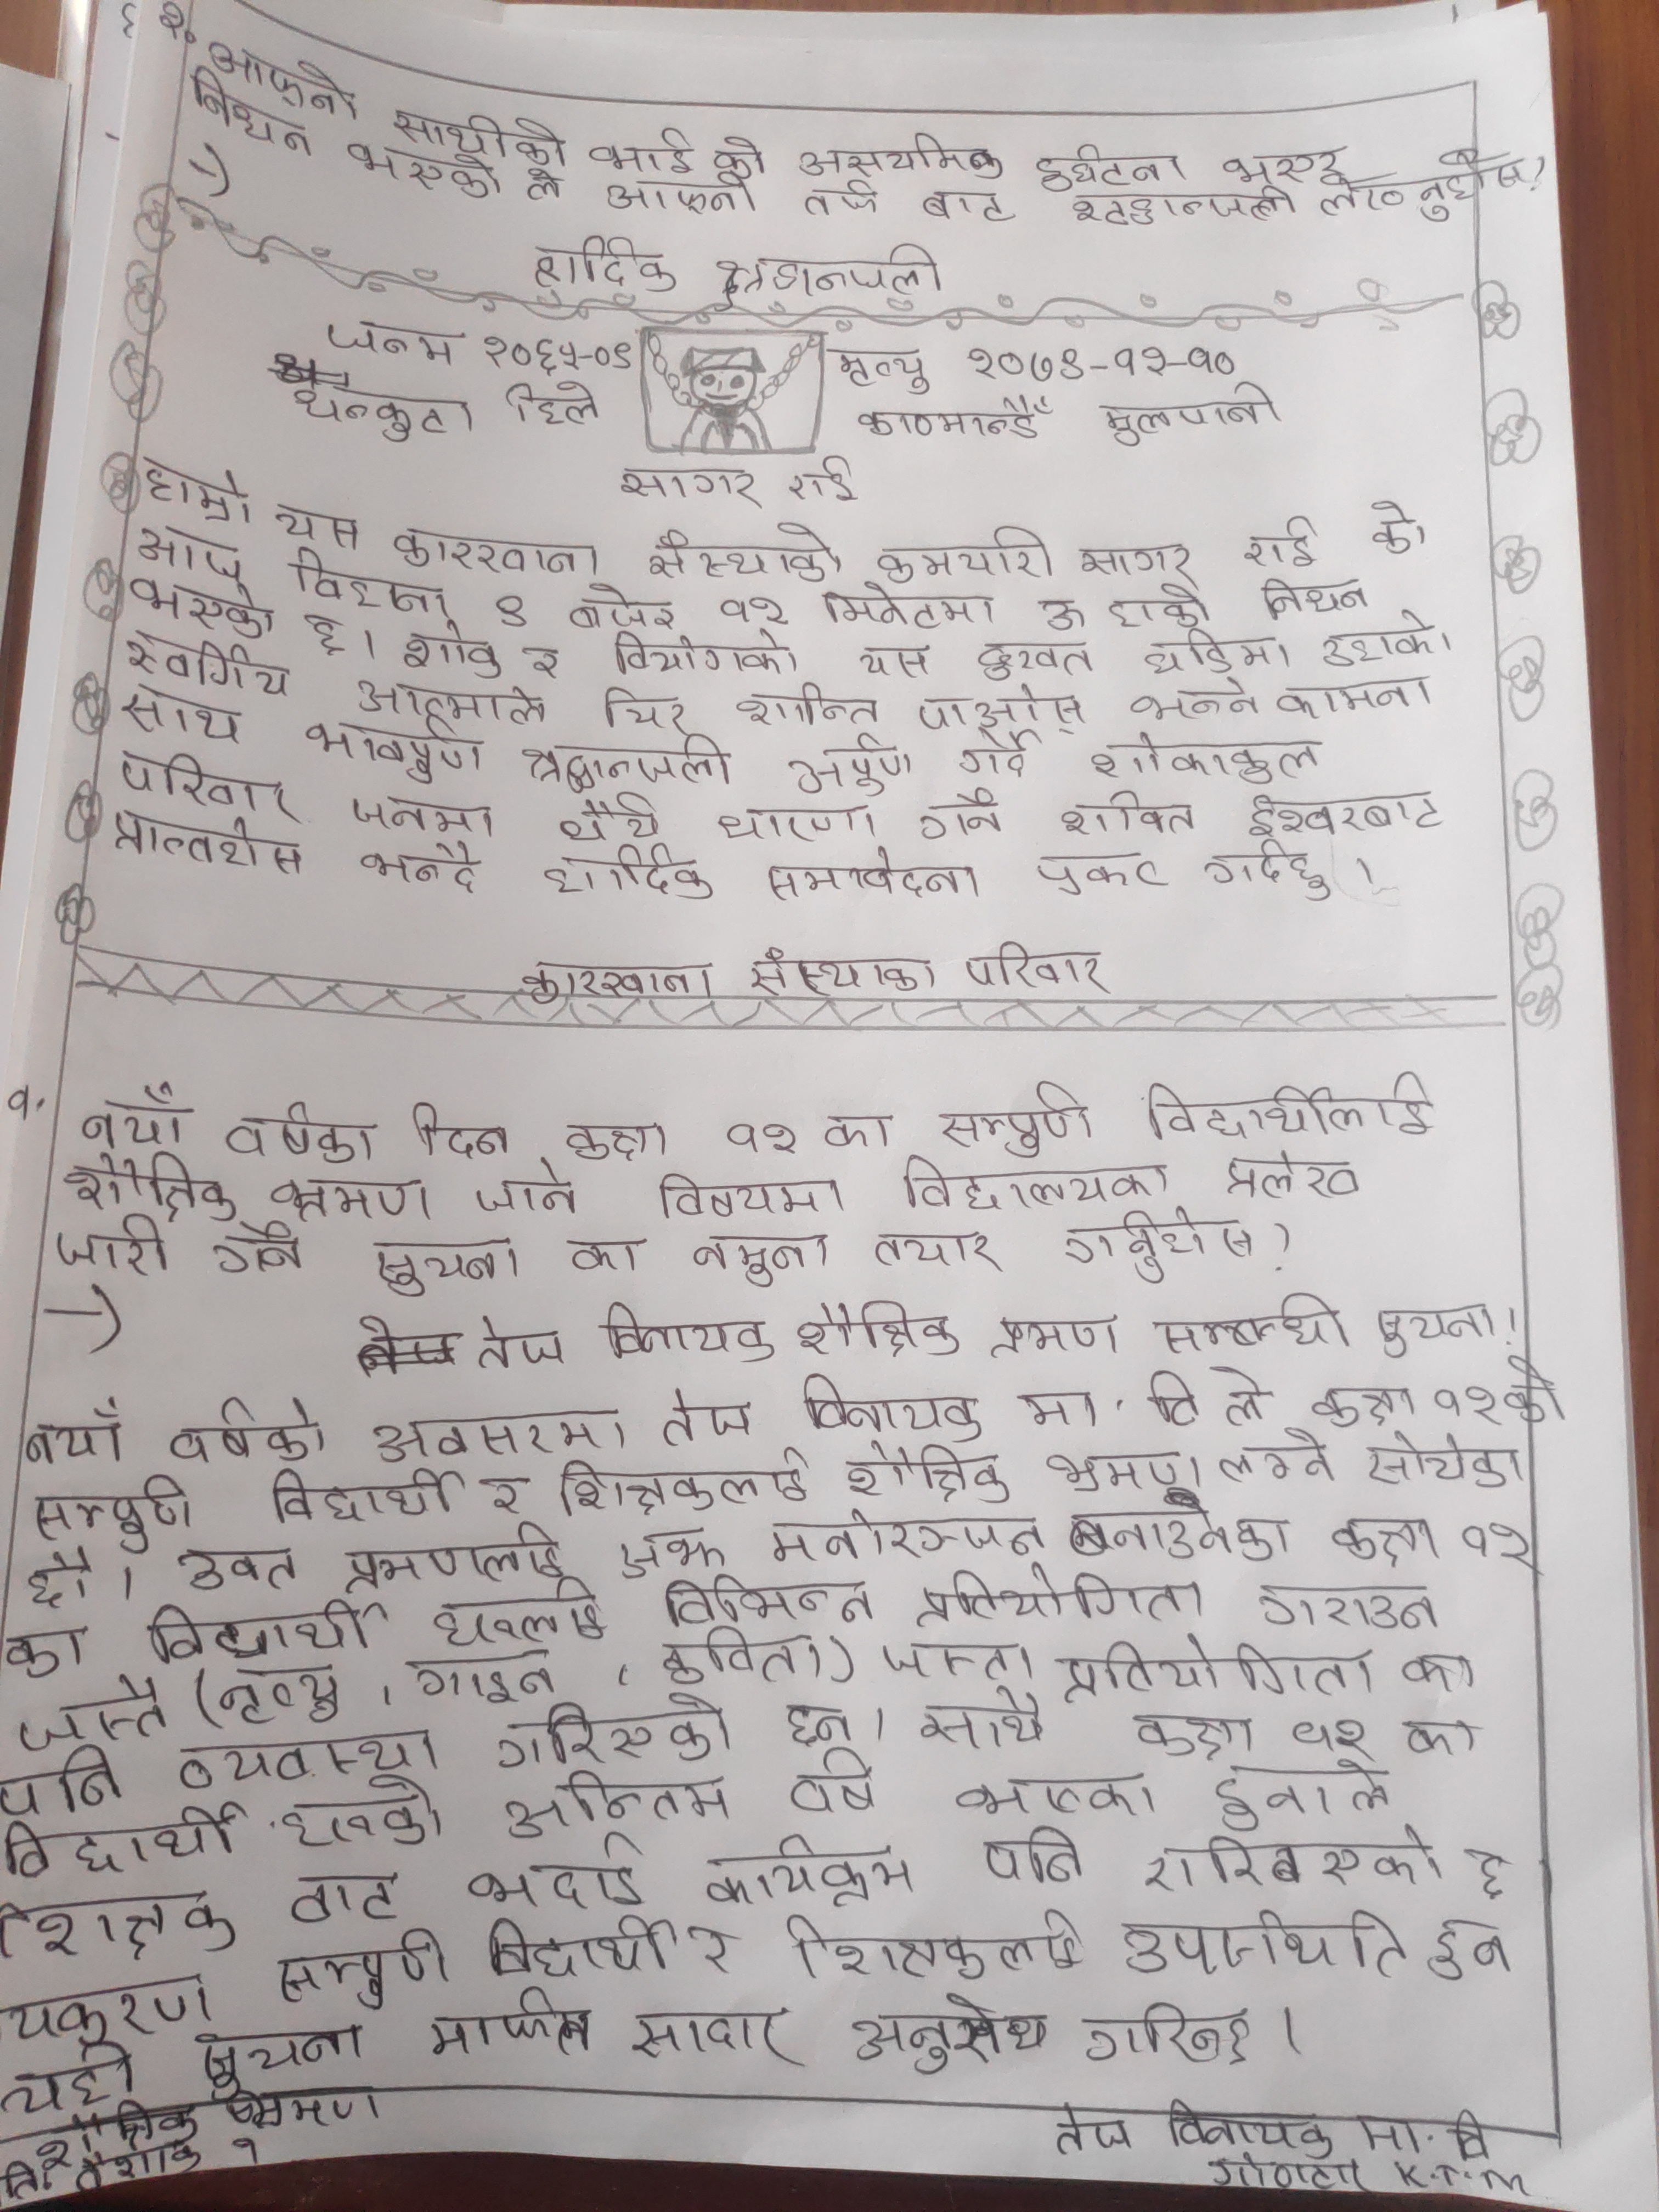text: (779, 1907, 1091, 1989), (1121, 1897, 1412, 1979), (1140, 1068, 1446, 1137), (1138, 1827, 1448, 1895), (1056, 1634, 1382, 1698), (918, 1559, 1211, 1627), (486, 1689, 735, 1766), (2, 1883, 237, 1959), (146, 1588, 394, 1660), (755, 1505, 1056, 1562), (174, 1724, 437, 1789), (852, 1991, 1054, 2074), (551, 1453, 816, 1515), (331, 1521, 572, 1588), (694, 1836, 917, 1909), (1056, 1204, 1263, 1282), (268, 1928, 455, 2015), (0, 1818, 251, 1883), (786, 1366, 988, 1444), (99, 806, 321, 878), (711, 235, 951, 300), (477, 1909, 671, 1989), (885, 1158, 1178, 1211), (1086, 723, 1328, 784), (115, 745, 307, 822), (615, 1993, 798, 2073), (1072, 1998, 1256, 2076), (1213, 1750, 1392, 1831), (925, 1080, 1103, 1160), (1328, 153, 1532, 223), (3, 1972, 218, 2038), (1148, 1291, 1356, 1359), (465, 1836, 657, 1909), (498, 1775, 734, 1834), (274, 1778, 455, 1855), (1066, 1507, 1297, 1566), (390, 519, 601, 583), (301, 711, 491, 782), (425, 1986, 601, 2062), (519, 735, 739, 796), (1223, 782, 1448, 841), (951, 1766, 1169, 1827), (291, 374, 476, 446), (347, 665, 551, 730), (361, 1407, 629, 1456), (61, 1151, 244, 1223), (260, 1458, 457, 1524), (655, 1569, 875, 1629), (598, 1296, 781, 1366), (164, 1397, 338, 1470), (361, 1224, 519, 1305), (1251, 1575, 1448, 1639), (640, 523, 847, 583), (840, 1437, 1021, 1507), (1098, 378, 1283, 446), (28, 1479, 197, 1552), (197, 40, 357, 117), (765, 848, 978, 906), (1361, 1430, 1532, 1501), (958, 340, 1236, 383), (295, 543, 448, 622), (430, 1581, 615, 1646), (270, 1165, 444, 1233), (655, 1165, 854, 1224), (742, 944, 951, 1000), (786, 1299, 971, 1362), (12, 1674, 176, 1743), (390, 98, 561, 164), (532, 846, 716, 907), (688, 1214, 833, 1291), (1215, 1139, 1368, 1211), (652, 1627, 824, 1689), (199, 2031, 366, 2095), (1161, 2099, 1337, 2160), (870, 524, 1061, 580), (796, 134, 1014, 183), (0, 2041, 148, 2113), (1054, 186, 1297, 230), (910, 1689, 1061, 1757), (1263, 665, 1436, 725), (136, 629, 291, 693), (505, 961, 725, 1007), (0, 1740, 134, 1813), (882, 1625, 1033, 1689), (525, 235, 674, 300), (612, 629, 809, 678), (817, 585, 1000, 637), (220, 1104, 380, 1163), (852, 401, 1061, 446), (471, 322, 640, 378), (361, 834, 498, 902), (1199, 834, 1337, 902), (716, 791, 884, 846), (1049, 784, 1204, 843), (586, 125, 760, 178), (21, 1397, 145, 1470), (1040, 1440, 1208, 1494), (406, 1646, 563, 1703), (1208, 2146, 1373, 2200), (193, 85, 312, 160), (983, 1305, 1121, 1369), (138, 446, 251, 523), (141, 577, 272, 643), (342, 155, 497, 211), (918, 678, 1080, 730), (1354, 2101, 1492, 2161), (404, 1094, 516, 1169), (782, 733, 915, 796), (343, 787, 502, 840), (390, 613, 518, 678), (1131, 1707, 1258, 1771), (1138, 1372, 1279, 1430), (78, 1085, 202, 1150), (981, 1824, 1093, 1895), (1032, 139, 1188, 190), (1032, 846, 1169, 904), (1138, 627, 1298, 676), (58, 1217, 173, 1285), (1323, 1505, 1446, 1568), (174, 1536, 301, 1597), (277, 1867, 404, 1928), (730, 681, 884, 732), (859, 1231, 1016, 1280), (779, 1756, 897, 1820), (1215, 1432, 1335, 1494), (592, 171, 765, 214), (328, 312, 462, 368), (1251, 571, 1385, 627), (613, 455, 756, 507), (122, 688, 247, 747), (218, 1669, 347, 1726), (1371, 1299, 1495, 1359), (1321, 617, 1460, 669), (957, 939, 1115, 984), (1121, 678, 1270, 725), (1073, 531, 1202, 583), (655, 1385, 760, 1449), (606, 1526, 730, 1580), (467, 1312, 575, 1372), (469, 1169, 586, 1224), (906, 787, 1016, 846), (565, 580, 685, 634), (202, 1224, 308, 1285), (145, 531, 263, 585), (1310, 1378, 1424, 1432), (505, 374, 610, 432), (565, 1113, 678, 1165), (559, 794, 666, 848), (1389, 1639, 1485, 1698), (1427, 1916, 1520, 1977), (592, 681, 695, 735), (1497, 1348, 1570, 1423), (1218, 145, 1347, 186), (1234, 512, 1324, 571), (969, 643, 1101, 683), (26, 1548, 106, 1615), (943, 732, 1049, 780), (1453, 1514, 1535, 1576), (561, 1230, 650, 1287), (1101, 585, 1222, 627), (821, 1108, 917, 1160), (1366, 491, 1441, 556), (1018, 1381, 1103, 1437), (1394, 1712, 1481, 1766), (272, 503, 364, 554), (9, 1622, 92, 1677), (786, 455, 866, 512), (1293, 1707, 1380, 1757), (1054, 2101, 1138, 2153), (674, 1925, 749, 1982), (723, 1108, 805, 1160), (835, 348, 932, 392), (918, 188, 1011, 232), (1431, 1372, 1497, 1430), (779, 1696, 856, 1743), (849, 643, 939, 681), (518, 167, 575, 225), (1459, 1841, 1514, 1898), (713, 590, 793, 629), (805, 186, 889, 223), (1032, 590, 1093, 637), (307, 606, 356, 660), (477, 1472, 532, 1519), (523, 637, 572, 683), (481, 587, 526, 634)
